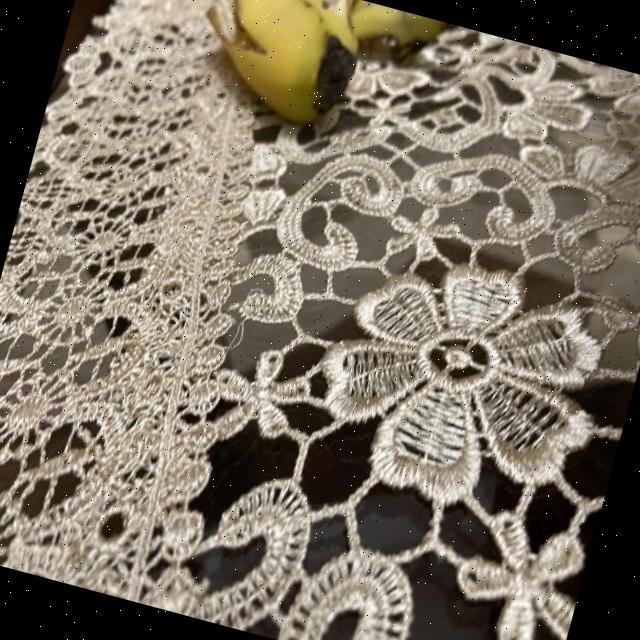banana-peel: (183, 0, 372, 134), (332, 0, 446, 76)
